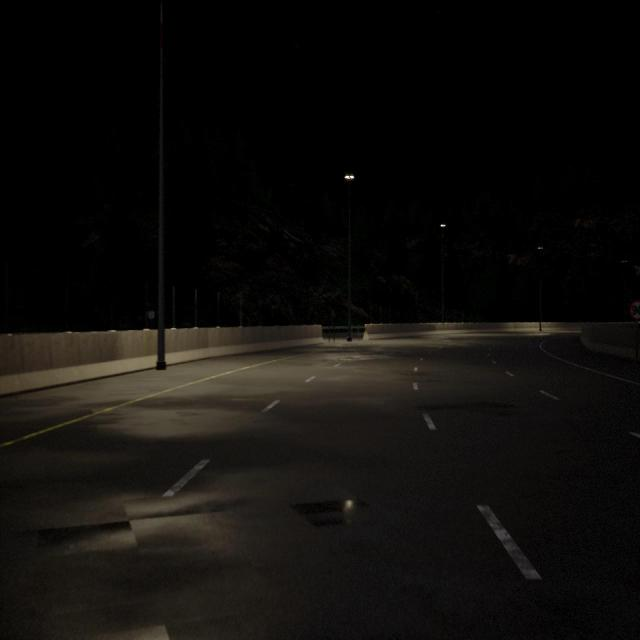Traffic_Signs: (630, 302, 640, 319), (149, 311, 154, 319)
